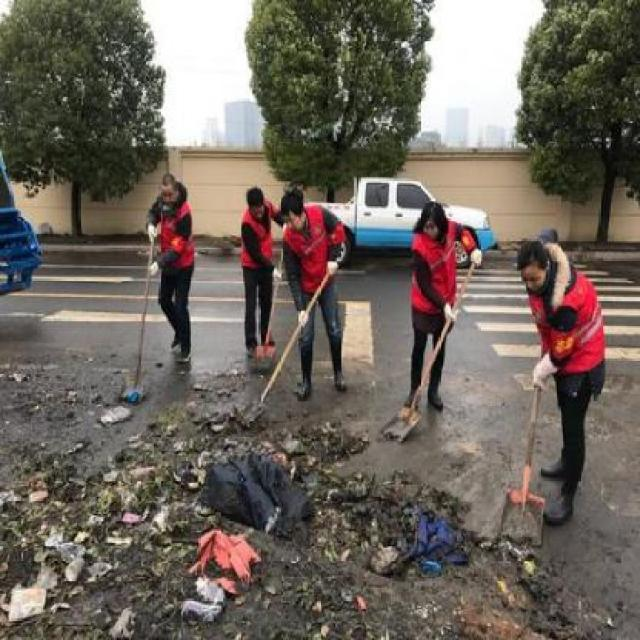garbage: (194, 440, 313, 534), (365, 494, 465, 578), (8, 531, 89, 625), (180, 525, 258, 614)
